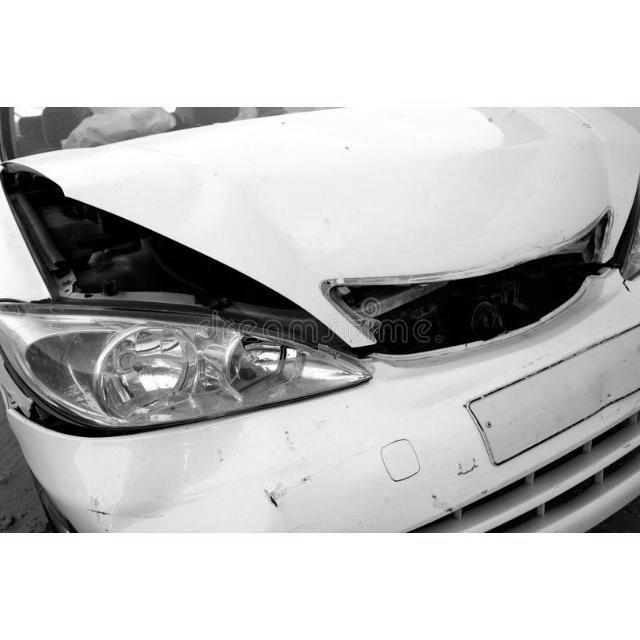front-bumper-dent: (0, 413, 498, 533)
roof-dent: (38, 108, 638, 343)
